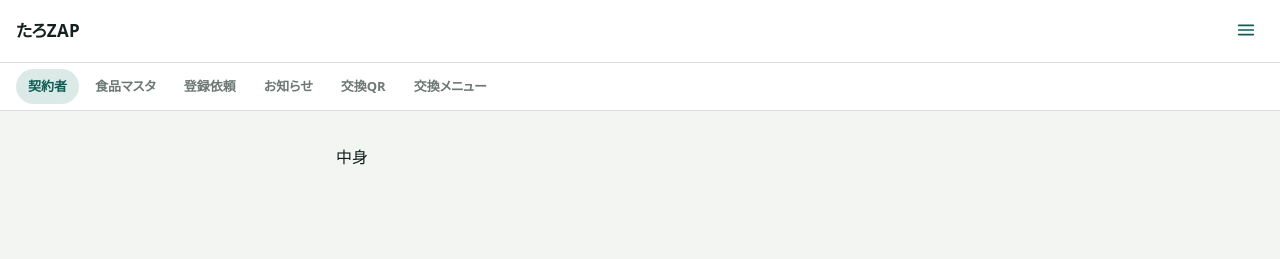
Test case: 右上のメニュー › Esc でも閉じる
Click the button named "メニュー" at (1246, 30), box [1228,12,1264,48]
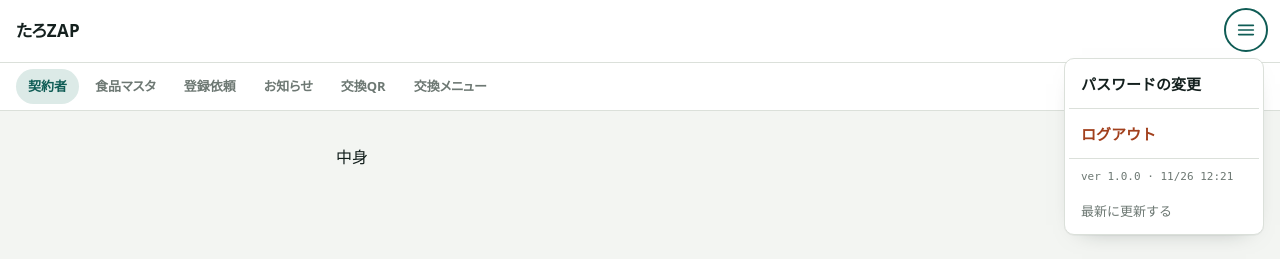
Press Escape
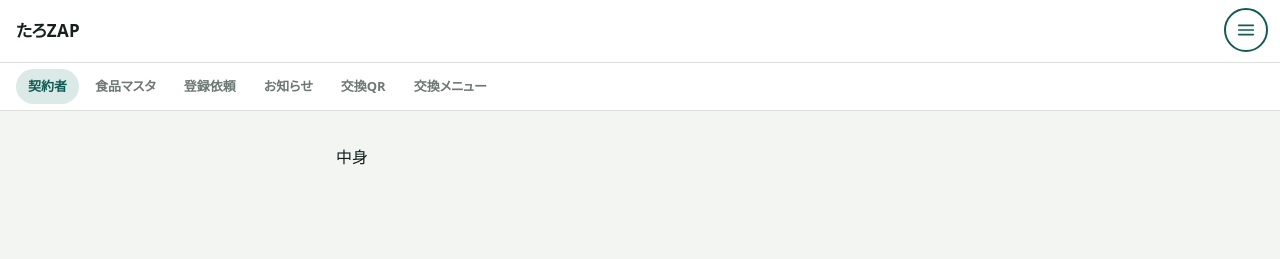
Result: the menu is gone
